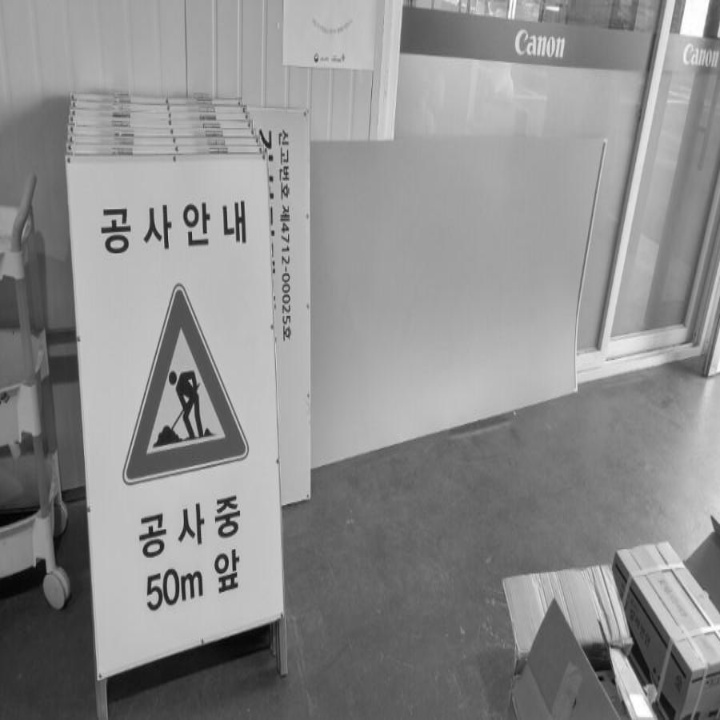const: (154, 353, 230, 454)
